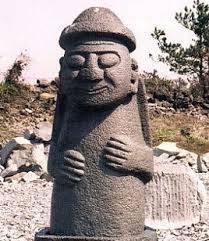Stone Statue: (38, 4, 165, 241)
